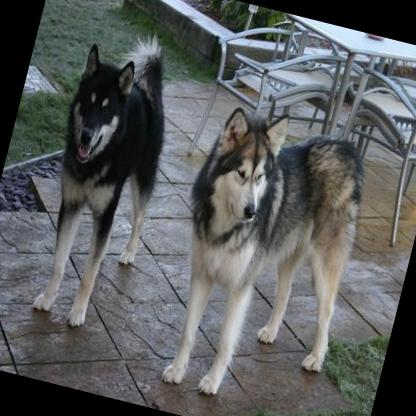malamute: (140, 86, 381, 416), (13, 11, 192, 338)
